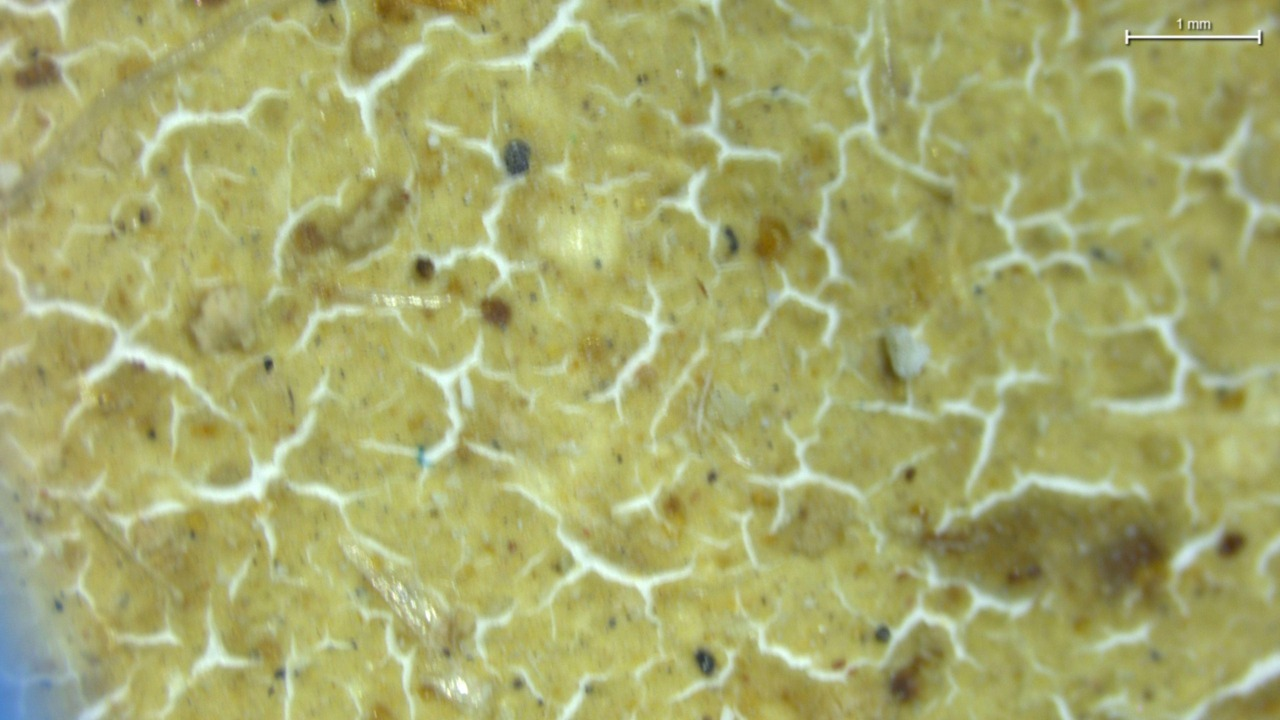microplastic_fragment: (886, 326, 925, 383)
